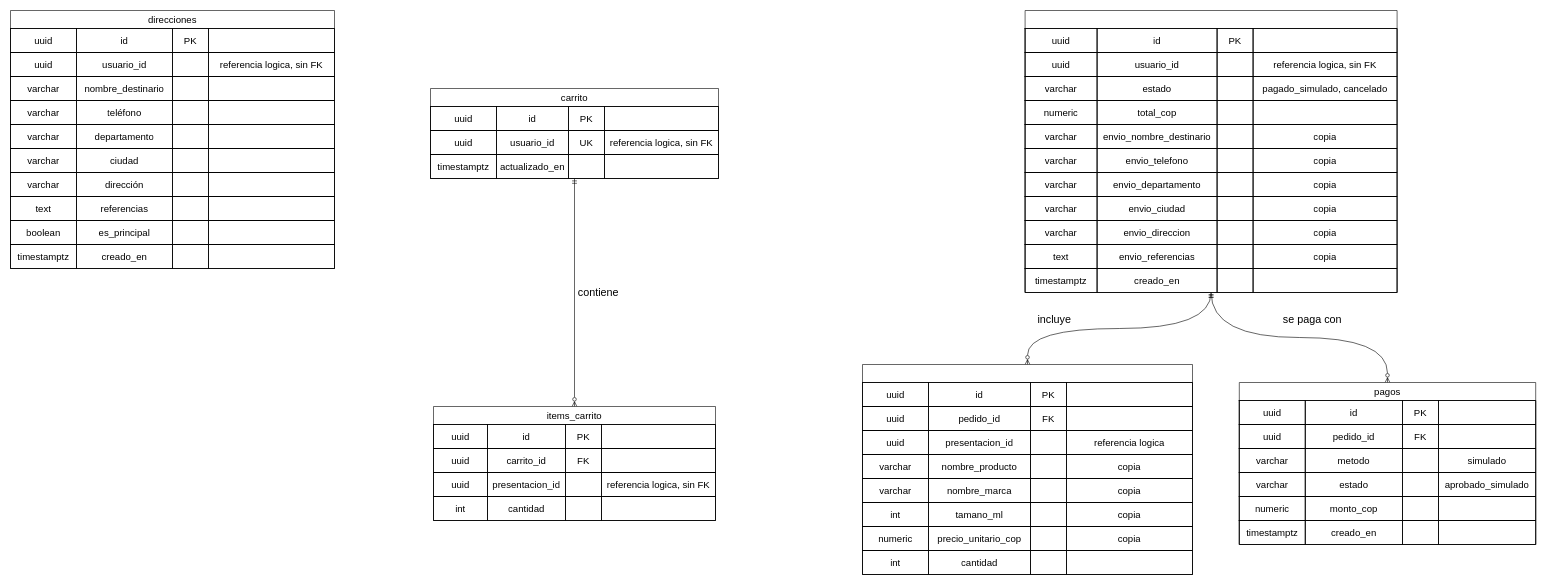
The diagram is 1546 pixels wide and 585 high, and some of its shapes have lost their labels. The box of each missing label's shape, as (x1, y1, x2, y2) in pixels:
items_pedido: (862, 364, 1192, 574)
pedidos: (1024, 10, 1397, 292)
